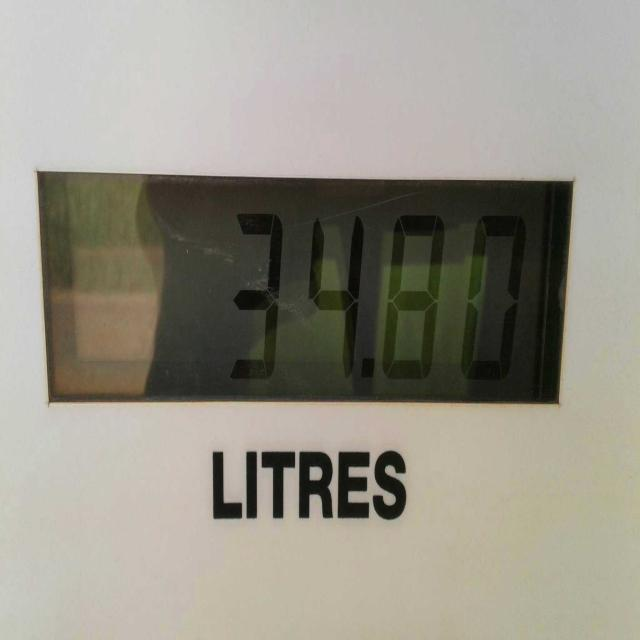.: (362, 353, 376, 380)
0: (462, 214, 525, 376)
3: (234, 208, 281, 378)
4: (311, 215, 355, 380)
8: (382, 214, 444, 382)
